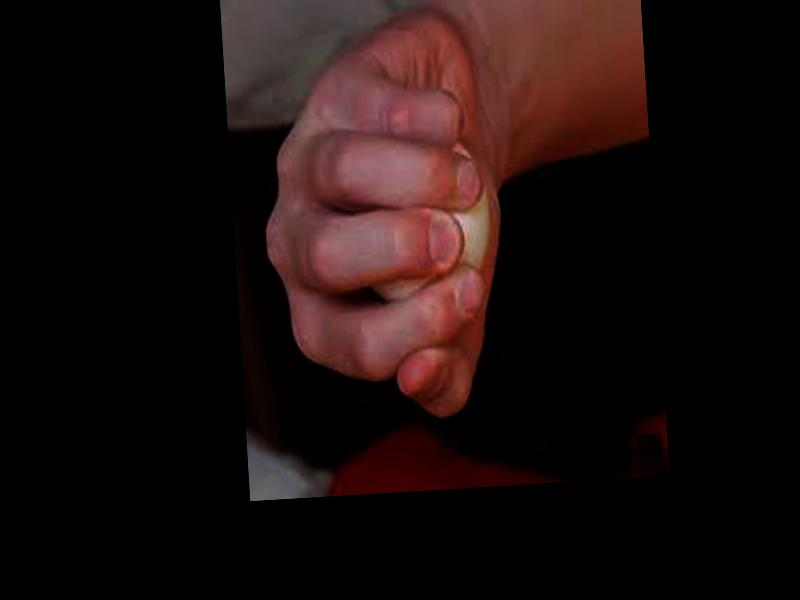Eggs: (361, 140, 496, 322)
